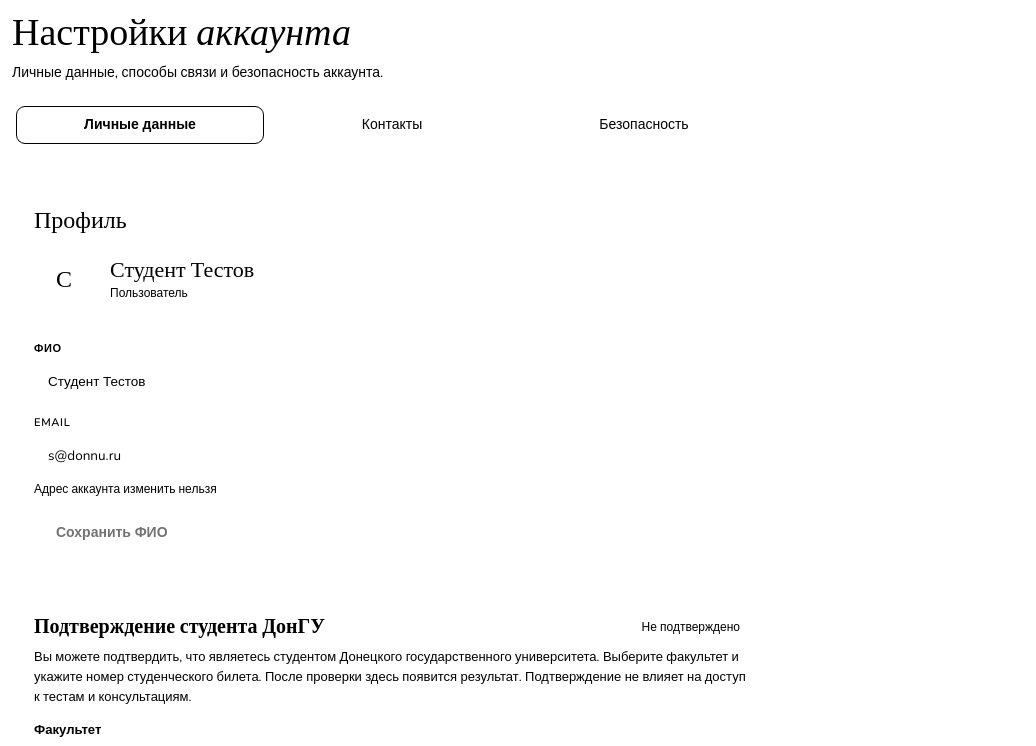
Scenario: раздел «Контакты» › подпись аудитории для чистого пользователя — психолог и супервизор
Expected: the heading "Профиль" is shown, left=34, top=206, right=127, bottom=235
Click the tab "Контакты". click: coordinates (392, 125)
box: left=268, top=106, right=516, bottom=144
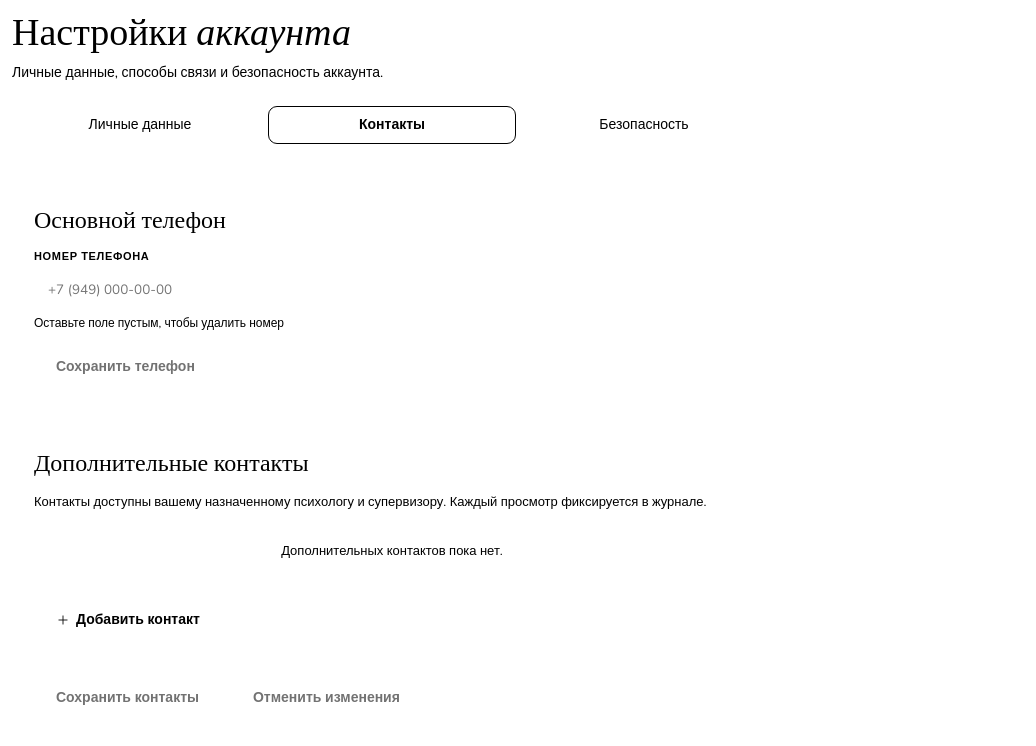
Now the text "назначенному психологу и супервизору" is shown, box left=34, top=493, right=706, bottom=511
